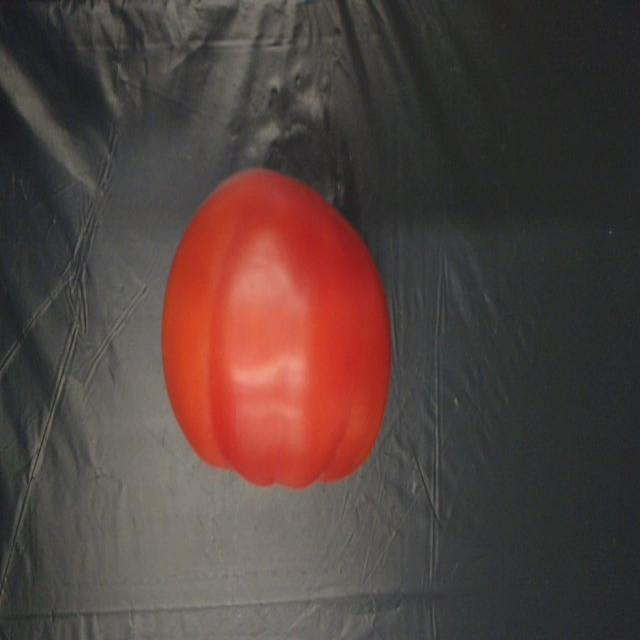kirmizi: (147, 156, 392, 494)
